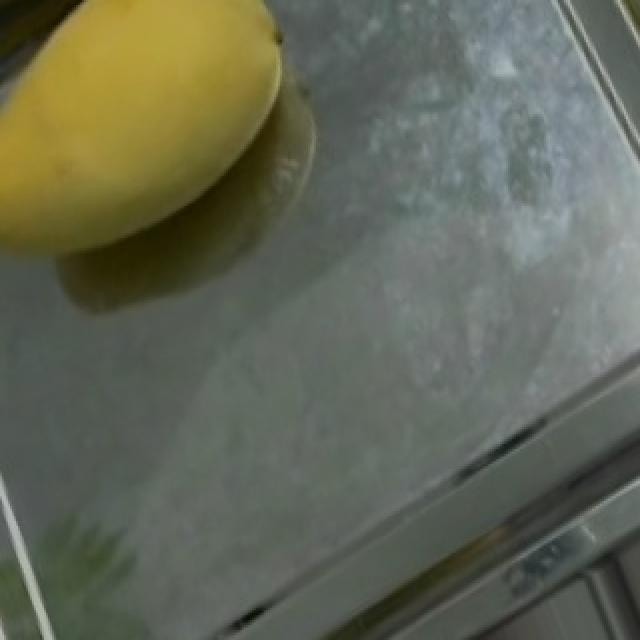fruit: (4, 2, 330, 286)
